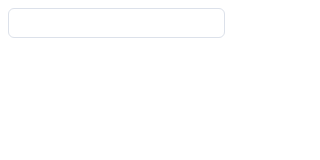
Test: AmountField › передаёт точное число, форматирует на blur и возвращает сырой ввод по фокусу
The width and height of the screenshot is (320, 160).
Type "-1000.5070" into the field named "Сумма" at [116, 23], box [17,8,216,38]
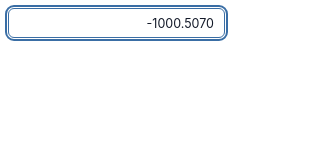
Press Tab
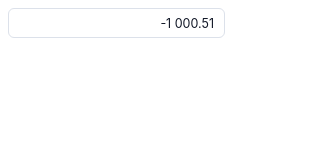
Click the field named "Сумма" at [116, 23], box [17,8,216,38]
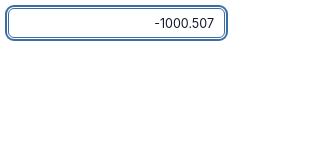
Expected: the field named "Сумма" holds "-1000.507", [17,8,216,38]
